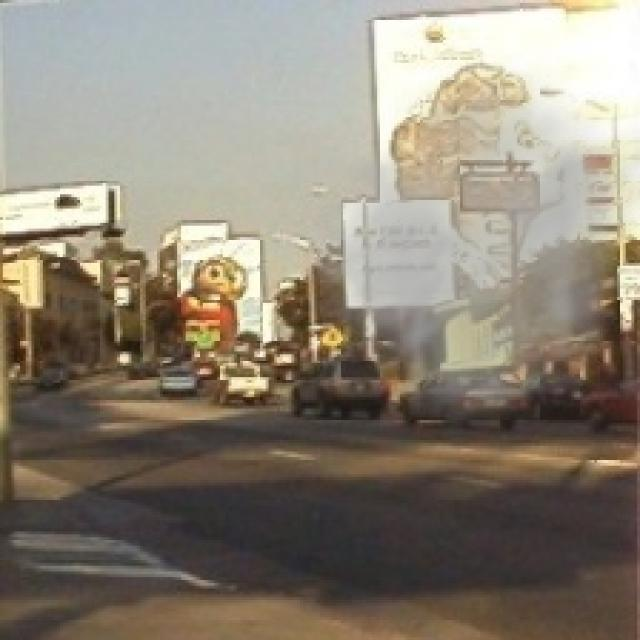Smoke: (268, 54, 638, 449)
